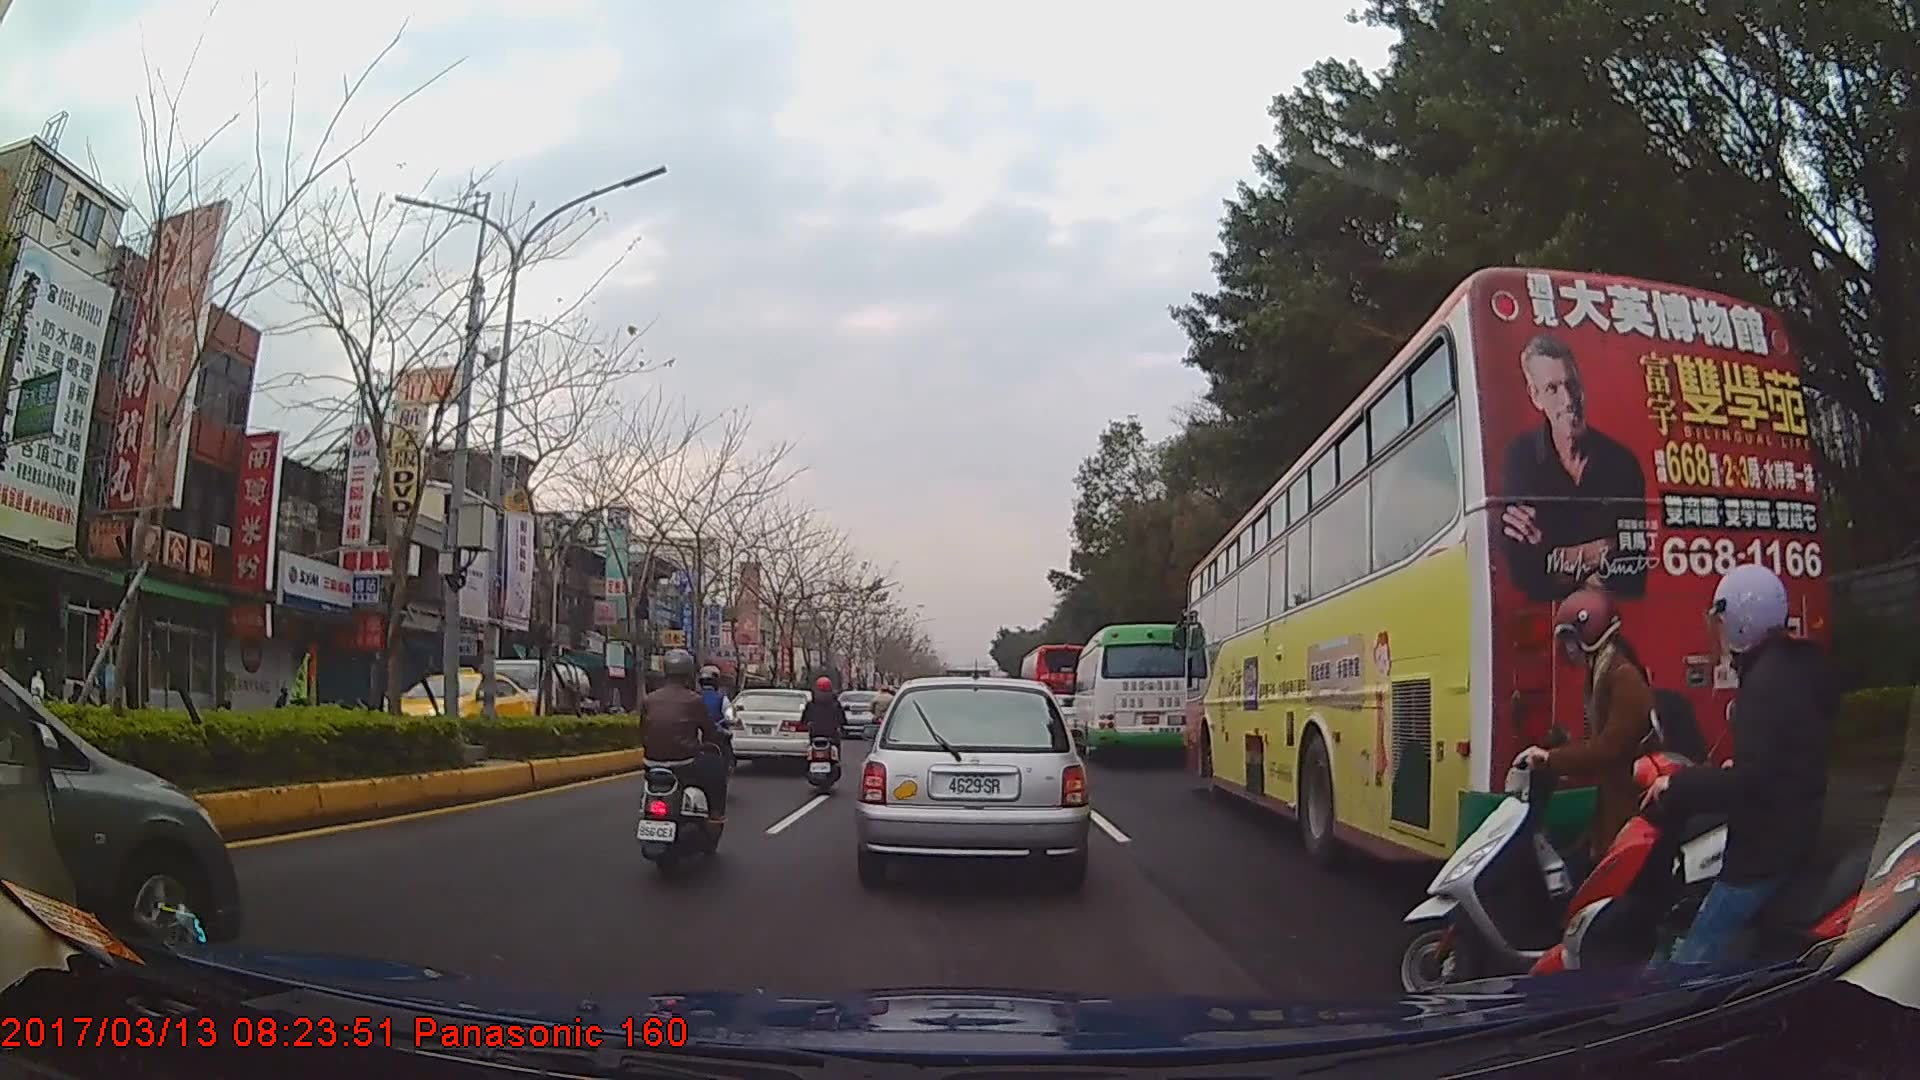rider: (1543, 560, 1913, 1025), (1386, 592, 1775, 1021), (637, 648, 732, 885), (687, 662, 741, 789), (798, 677, 848, 796), (869, 683, 897, 746)
vehicle: (1185, 266, 1834, 877), (0, 654, 242, 961), (858, 671, 1086, 888), (1068, 622, 1201, 764), (383, 663, 534, 754), (471, 651, 592, 743), (721, 688, 832, 776), (1015, 640, 1096, 731)
